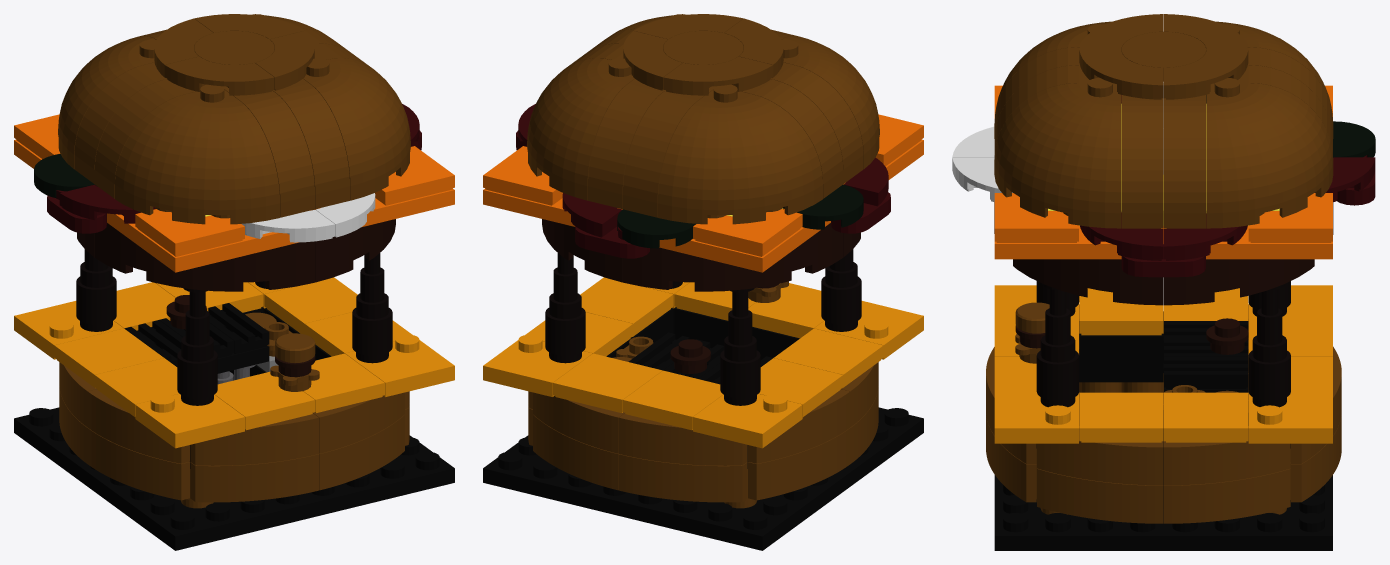
Rendered from Burguer.FBX.
3 renders of one model, left to right at view 1: azimuth 30°, elevation 25°; view 2: azimuth 150°, elevation 25°; view 3: azimuth 270°, elevation 25°, orthographic. The views are drawn at different scales.
Parts seen in each view (by area): view 1: Burguer; view 2: Burguer; view 3: Burguer.
Part boxes in pixels (bbox=[...]): Burguer: bbox=[14, 14, 454, 550]; Burguer: bbox=[483, 14, 923, 550]; Burguer: bbox=[952, 14, 1375, 550].
Bounding box in the file's own units: 3.15 × 3.53 × 3.15.
